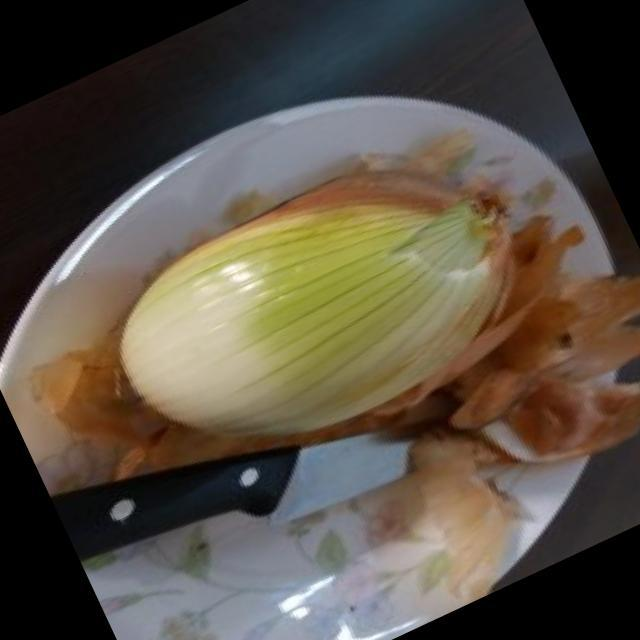Onion: (120, 202, 508, 441)
